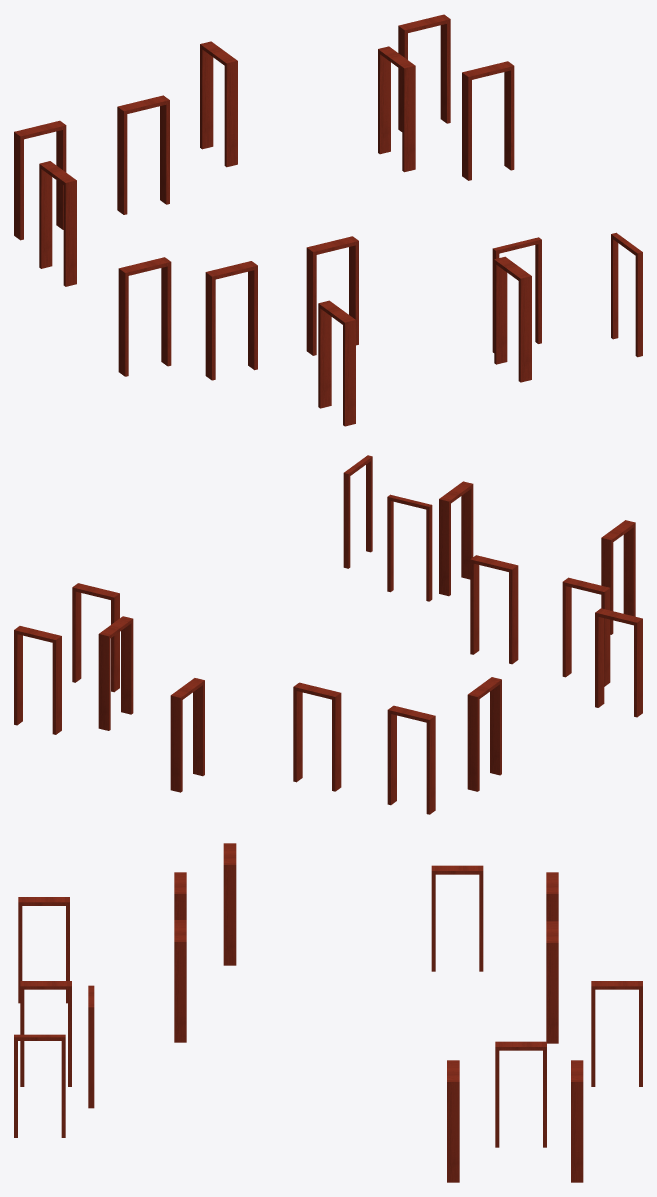
Rendered from ECP_MenKuang.FBX.
3 views of the same model, one above another, from view 1: azimuth 30°, elevation 25°; view 2: azimuth 150°, elevation 25°; view 3: azimuth 270°, elevation 25° (orthographic). The views are drawn at different scales.
Parts seen in each view (by area): view 1: C1_ECP_MenKuang005, C1_ECP_MenKuang013, C1_ECP_MenKuang015, C1_ECP_MenKuang014, C1_ECP_MenKuang004, C1_ECP_MenKuang003, C1_ECP_MenKuang011, C1_ECP_MenKuang002, C1_ECP_MenKuang009, C1_ECP_MenKuang001, C1_ECP_MenKuang012, C1_ECP_MenKuang010 (+2 smaller); view 2: C1_ECP_MenKuang014, C1_ECP_MenKuang015, C1_ECP_MenKuang013, C1_ECP_MenKuang005, C1_ECP_MenKuang012, C1_ECP_MenKuang001, C1_ECP_MenKuang011, C1_ECP_MenKuang004, C1_ECP_MenKuang010, C1_ECP_MenKuang003, C1_ECP_MenKuang009, C1_ECP_MenKuang002 (+2 smaller); view 3: C1_ECP_MenKuang003, C1_ECP_MenKuang001, C1_ECP_MenKuang009, C1_ECP_MenKuang010, C1_ECP_MenKuang011, C1_ECP_MenKuang013, C1_ECP_MenKuang014, C1_ECP_MenKuang015, C1_ECP_MenKuang005, C1_ECP_MenKuang004, C1_ECP_MenKuang006, C1_ECP_MenKuang008 (+2 smaller).
Boxes of the visible parts, box(x1,y1,x2,y2) form: C1_ECP_MenKuang005: box(494, 256, 531, 382); C1_ECP_MenKuang013: box(39, 161, 76, 286); C1_ECP_MenKuang015: box(200, 41, 237, 167); C1_ECP_MenKuang014: box(378, 46, 415, 172); C1_ECP_MenKuang004: box(318, 300, 355, 426); C1_ECP_MenKuang003: box(118, 257, 171, 376); C1_ECP_MenKuang011: box(117, 95, 169, 214); C1_ECP_MenKuang002: box(205, 261, 257, 380); C1_ECP_MenKuang009: box(462, 61, 514, 180); C1_ECP_MenKuang001: box(306, 236, 358, 355); C1_ECP_MenKuang012: box(14, 120, 66, 240); C1_ECP_MenKuang010: box(398, 14, 450, 131); C1_ECP_MenKuang014: box(98, 616, 133, 730); C1_ECP_MenKuang015: box(170, 678, 204, 792); C1_ECP_MenKuang013: box(467, 677, 501, 791); C1_ECP_MenKuang005: box(439, 481, 473, 596); C1_ECP_MenKuang012: box(387, 705, 435, 814); C1_ECP_MenKuang001: box(470, 555, 518, 664); C1_ECP_MenKuang011: box(293, 682, 341, 791); C1_ECP_MenKuang004: box(601, 520, 635, 634); C1_ECP_MenKuang010: box(14, 626, 61, 734); C1_ECP_MenKuang003: box(595, 608, 642, 717); C1_ECP_MenKuang009: box(72, 583, 119, 692); C1_ECP_MenKuang002: box(562, 577, 610, 686); C1_ECP_MenKuang003: box(223, 843, 236, 965); C1_ECP_MenKuang001: box(174, 920, 186, 1042); C1_ECP_MenKuang009: box(447, 1060, 459, 1182); C1_ECP_MenKuang010: box(571, 1060, 583, 1182); C1_ECP_MenKuang011: box(546, 921, 558, 1043); C1_ECP_MenKuang013: box(431, 865, 483, 971); C1_ECP_MenKuang014: box(495, 1041, 546, 1147); C1_ECP_MenKuang015: box(591, 981, 642, 1086); C1_ECP_MenKuang005: box(20, 981, 71, 1086); C1_ECP_MenKuang004: box(18, 897, 69, 1003); C1_ECP_MenKuang006: box(14, 1034, 65, 1137); C1_ECP_MenKuang008: box(88, 985, 94, 1108).
Bounding box in the file's own units: 1140 × 224 × 1268.
